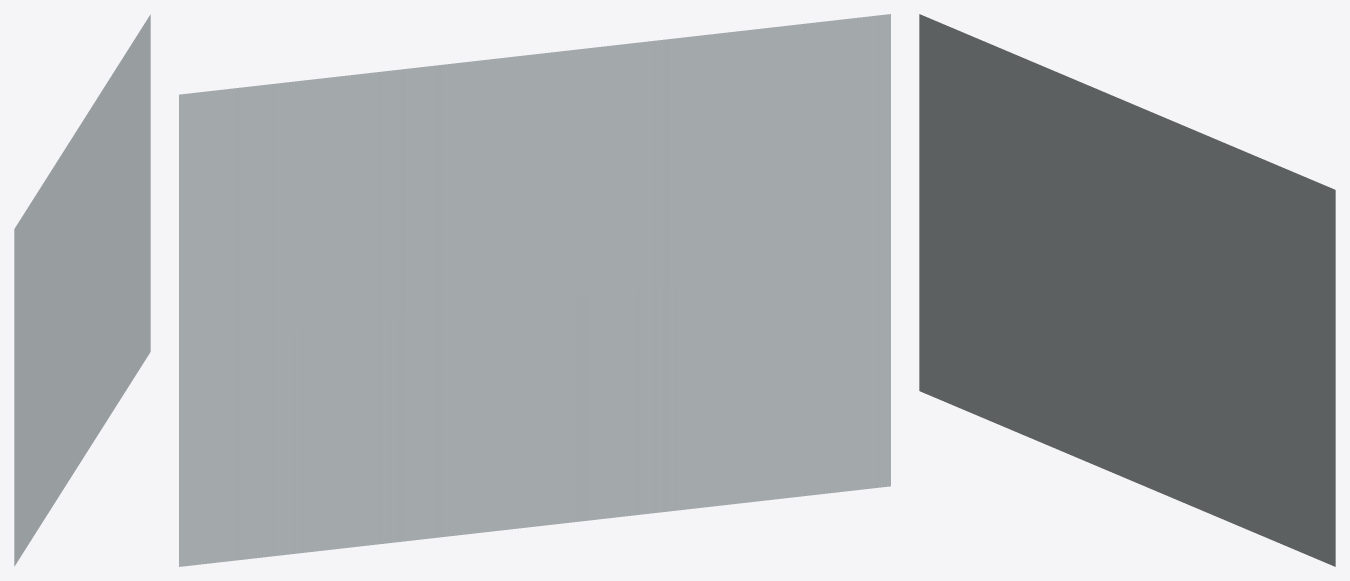
File: Diagonal_blank.fbx
3 renders of one model, left to right at view 1: azimuth 30°, elevation 25°; view 2: azimuth 150°, elevation 25°; view 3: azimuth 270°, elevation 25°, orthographic. The views are drawn at different scales.
Parts seen in each view (by area): view 1: Diagonal_blank; view 2: Diagonal_blank; view 3: Diagonal_blank.
Boxes of the visible parts, left/top/right/bottom form: Diagonal_blank: left=14, top=14, right=150, bottom=566; Diagonal_blank: left=179, top=14, right=890, bottom=566; Diagonal_blank: left=919, top=14, right=1335, bottom=566.
Size of the model in its own units: 300 by 300 by 300.
